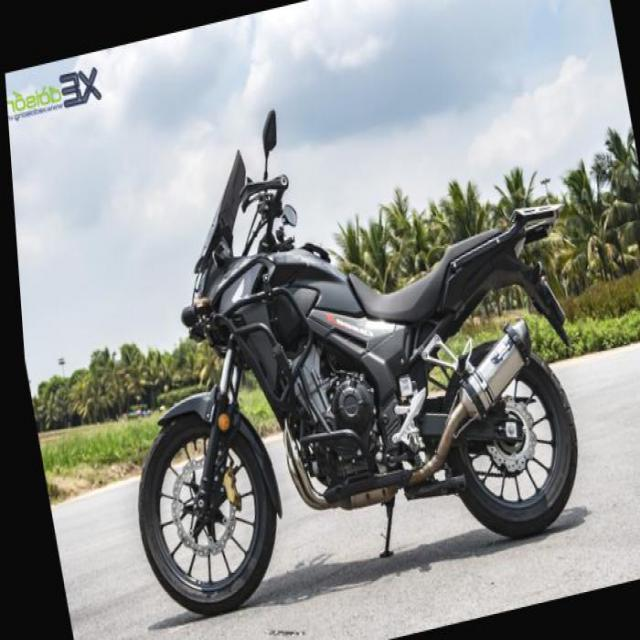CB500X: (72, 78, 593, 631)
